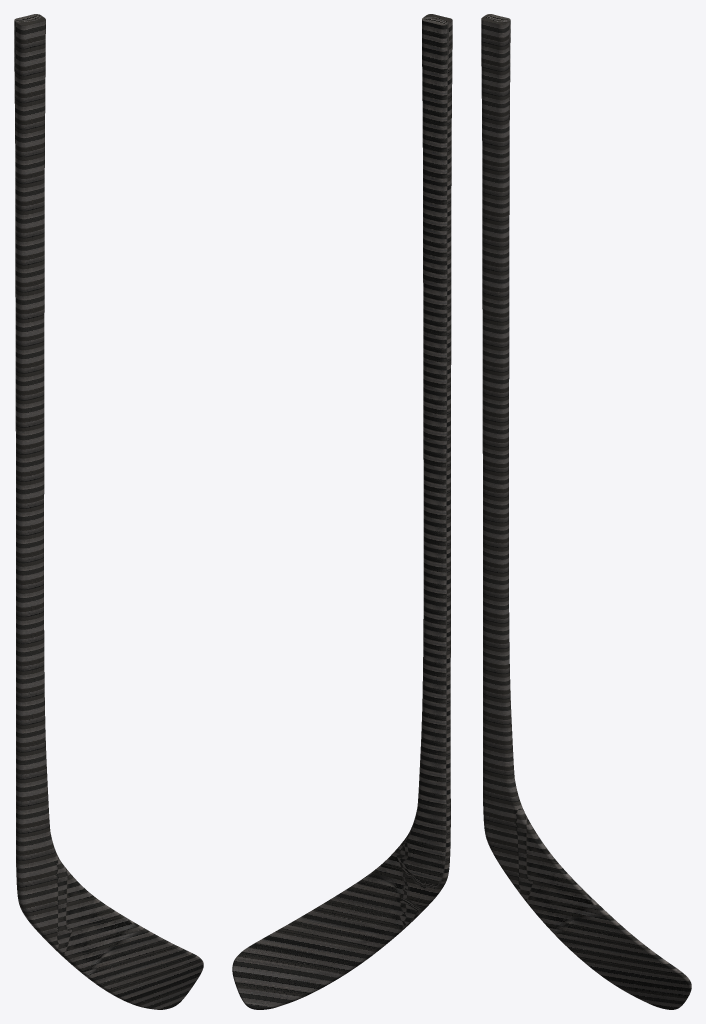
The model's file is P65-SBO.glb.
The picture shows the model from 3 angles, left to right: view 1: azimuth 30°, elevation 25°; view 2: azimuth 150°, elevation 25°; view 3: azimuth 330°, elevation 25°; orthographic projection. The views are drawn at different scales.
Parts seen in each view (by area): view 1: geometry_0; view 2: geometry_0; view 3: geometry_0.
Part boxes in pixels (x1,y1,x2,y2): geometry_0: [14, 14, 203, 1009]; geometry_0: [232, 14, 452, 1009]; geometry_0: [481, 14, 691, 1009].
Bounding box in the file's own units: 237 × 1156 × 58.52.
Materials: 1 (1 with a texture image).
